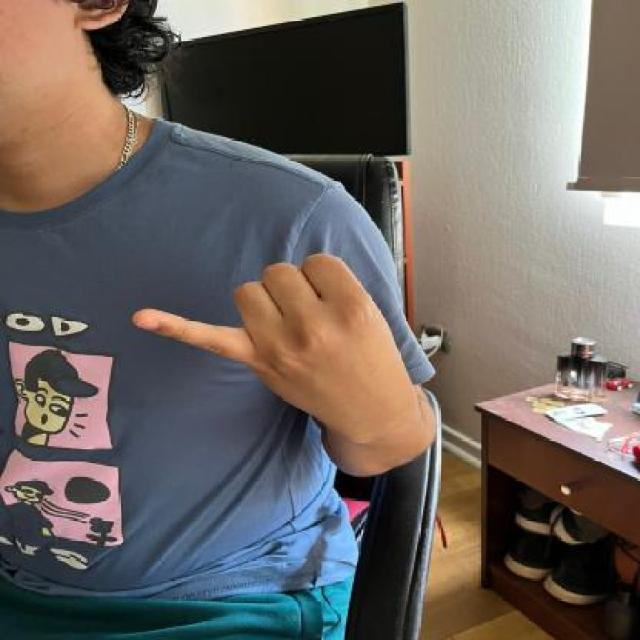J: (132, 244, 420, 438)
